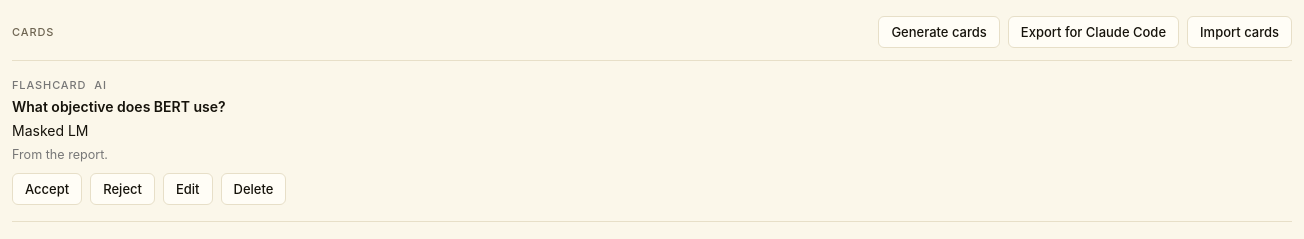
Test: CardsView › deletes a card
Click the button "Delete": (253, 189) [220,173,286,205]
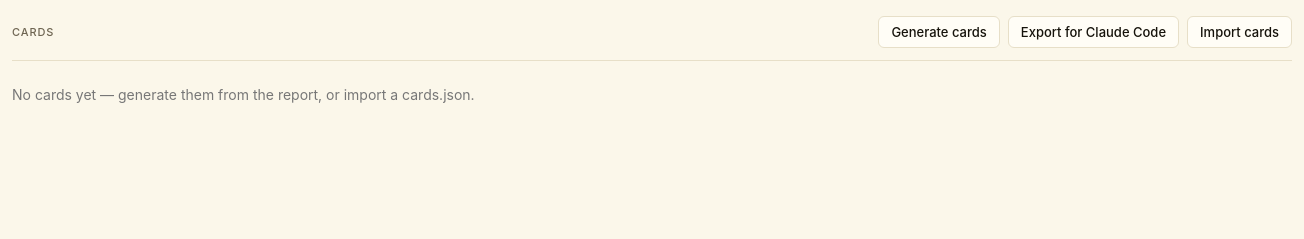
Result: the text "What objective does BERT use?" is gone
